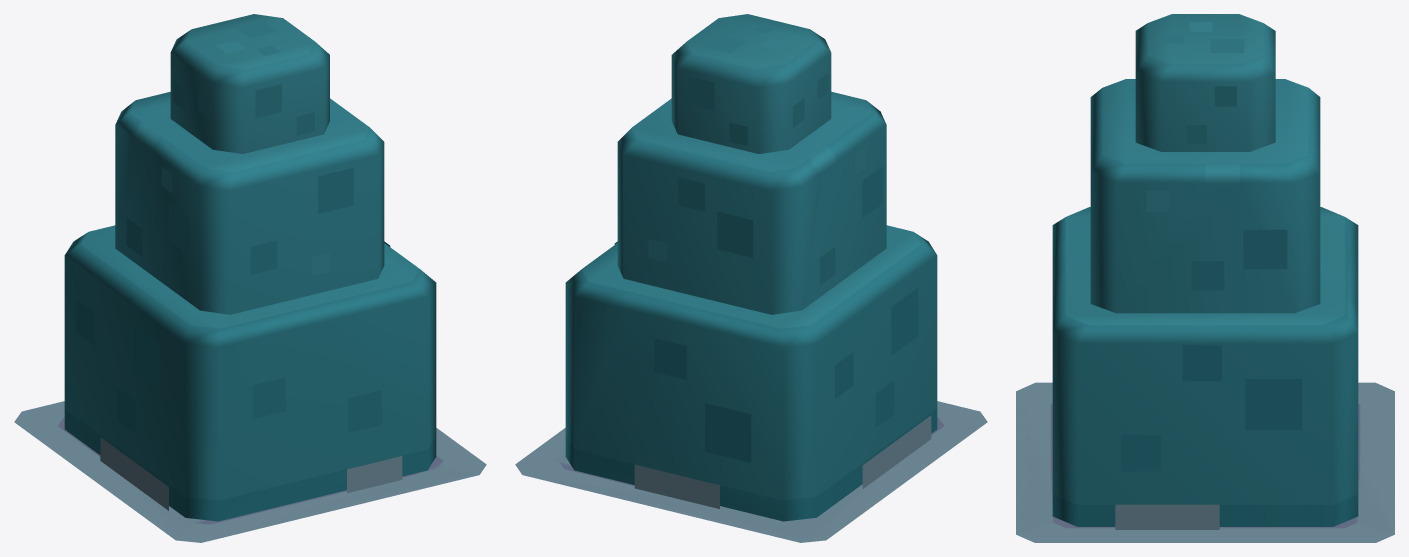
Rendered from B_mountain2_rock02.fbx.
3 views of the same model, side by side, from view 1: azimuth 30°, elevation 25°; view 2: azimuth 150°, elevation 25°; view 3: azimuth 270°, elevation 25° (orthographic). The views are drawn at different scales.
Parts seen in each view (by area): view 1: model 1, model; view 2: model 1, model; view 3: model 1, model.
Boxes of the visible parts, x1,y1,x2,y2 form: model 1: (15, 14, 486, 542); model: (14, 401, 486, 542); model 1: (517, 14, 985, 542); model: (515, 401, 987, 542); model 1: (1016, 14, 1394, 542); model: (1016, 382, 1394, 542).
Size of the model in its own units: 4.96 by 6.16 by 4.96.
